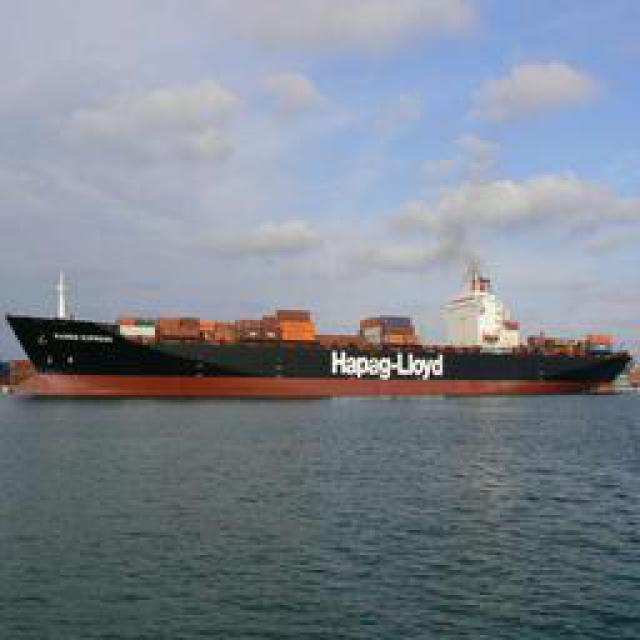Ship: (6, 311, 614, 386)
